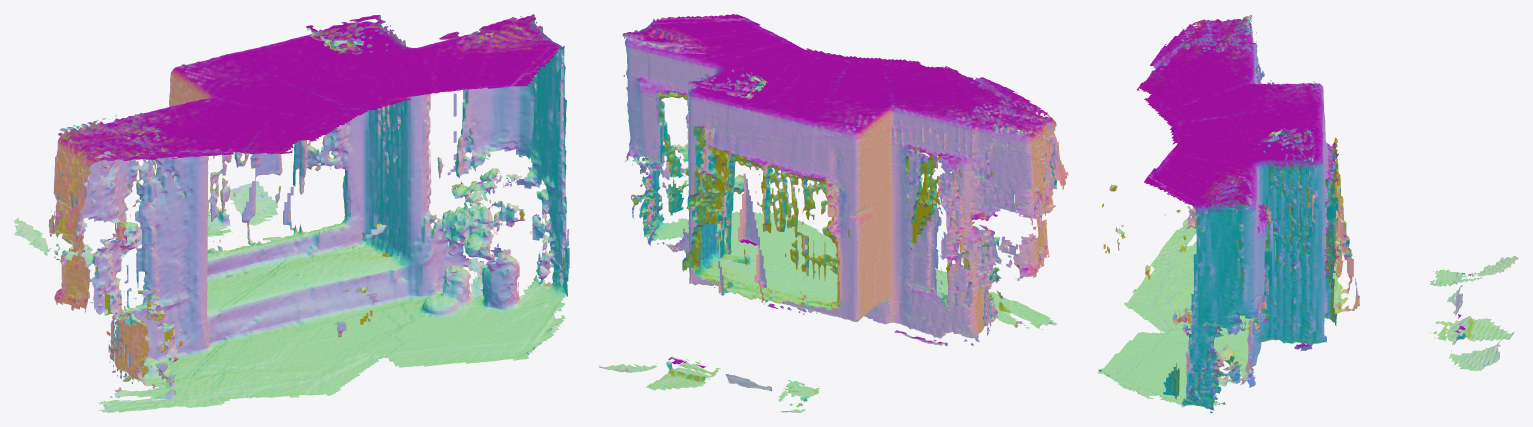
File: AbundanceScan-2026-10-31_095710.glb
3 renders of one model, left to right at view 1: azimuth 30°, elevation 25°; view 2: azimuth 150°, elevation 25°; view 3: azimuth 270°, elevation 25°, orthographic. The views are drawn at different scales.
Parts seen in each view (by area): view 1: AbundanceScan-2026-10-31_095710.glb; view 2: AbundanceScan-2026-10-31_095710.glb; view 3: AbundanceScan-2026-10-31_095710.glb.
Boxes of the visible parts, x1,y1,x2,y2 form: AbundanceScan-2026-10-31_095710.glb: [14, 14, 569, 412]; AbundanceScan-2026-10-31_095710.glb: [599, 14, 1068, 412]; AbundanceScan-2026-10-31_095710.glb: [1097, 15, 1518, 412].
Size of the model in its own units: 5.43 by 2.82 by 4.83.
